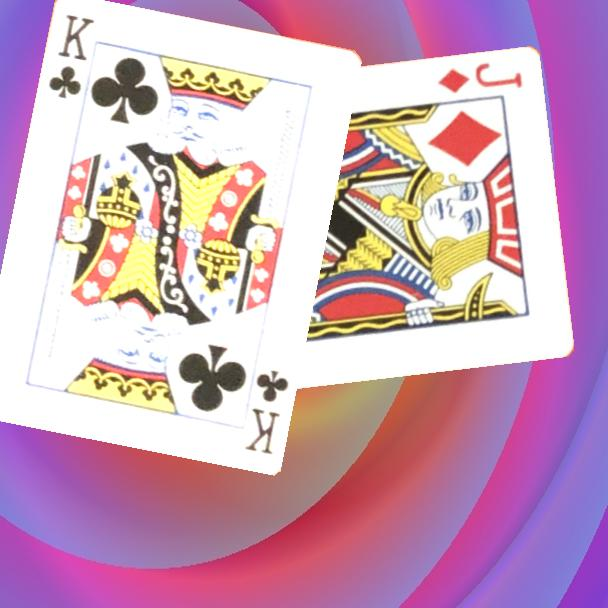c13: (45, 10, 97, 101), (241, 366, 291, 457)
d11: (434, 59, 525, 96)
